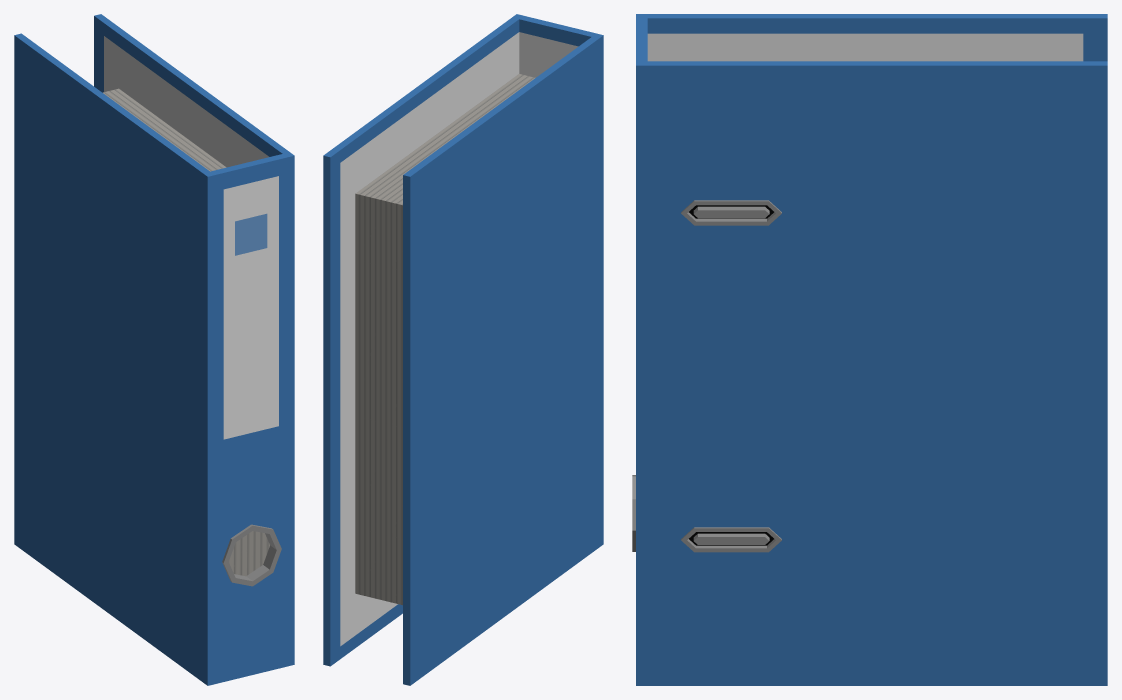
File: Int_OfficeFolder01_1.fbx
3 renders of one model, left to right at view 1: azimuth 30°, elevation 25°; view 2: azimuth 150°, elevation 25°; view 3: azimuth 270°, elevation 25°, orthographic. The views are drawn at different scales.
Parts seen in each view (by area): view 1: Int_OfficeFolder01_1; view 2: Int_OfficeFolder01_1; view 3: Int_OfficeFolder01_1.
Part boxes in pixels (x1,y1,x2,y2): Int_OfficeFolder01_1: (14, 14, 294, 685); Int_OfficeFolder01_1: (323, 14, 603, 685); Int_OfficeFolder01_1: (632, 14, 1107, 685).
Size of what is drawn, in the model's own units: 9.61 by 36.06 by 51.94.
